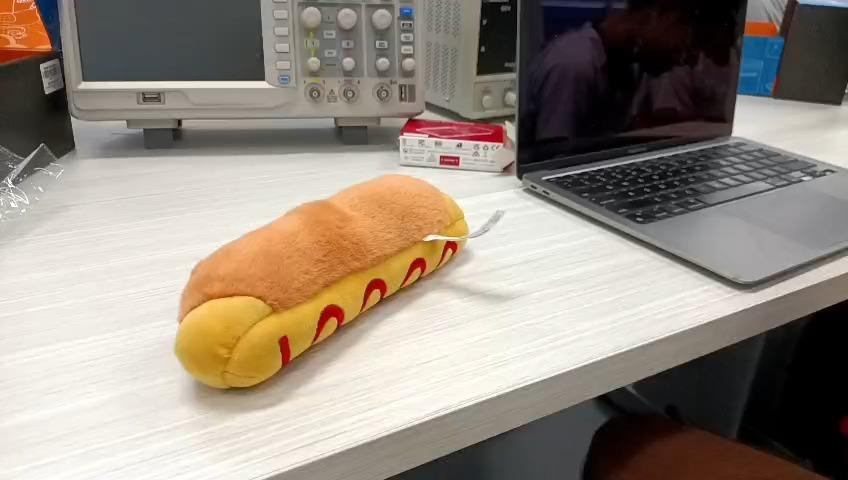hotdog: (175, 175, 469, 390)
